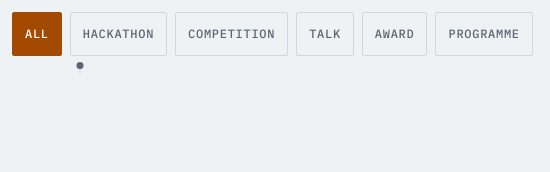
Timeline › says what happened and how to undo it when a filter matches nothing
# Nothing in the route is an award.
Click the button "Award". click: x=395, y=34
box: [362, 12, 428, 56]
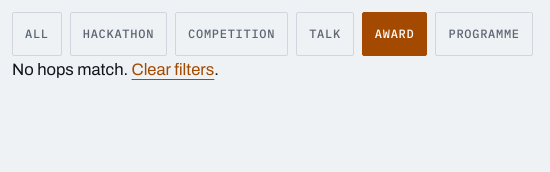
Expected: the text "No hops match. Clear filters ." is shown, [12, 56, 219, 83]
Expected: the button "Clear filters" is shown, [132, 56, 214, 83]
